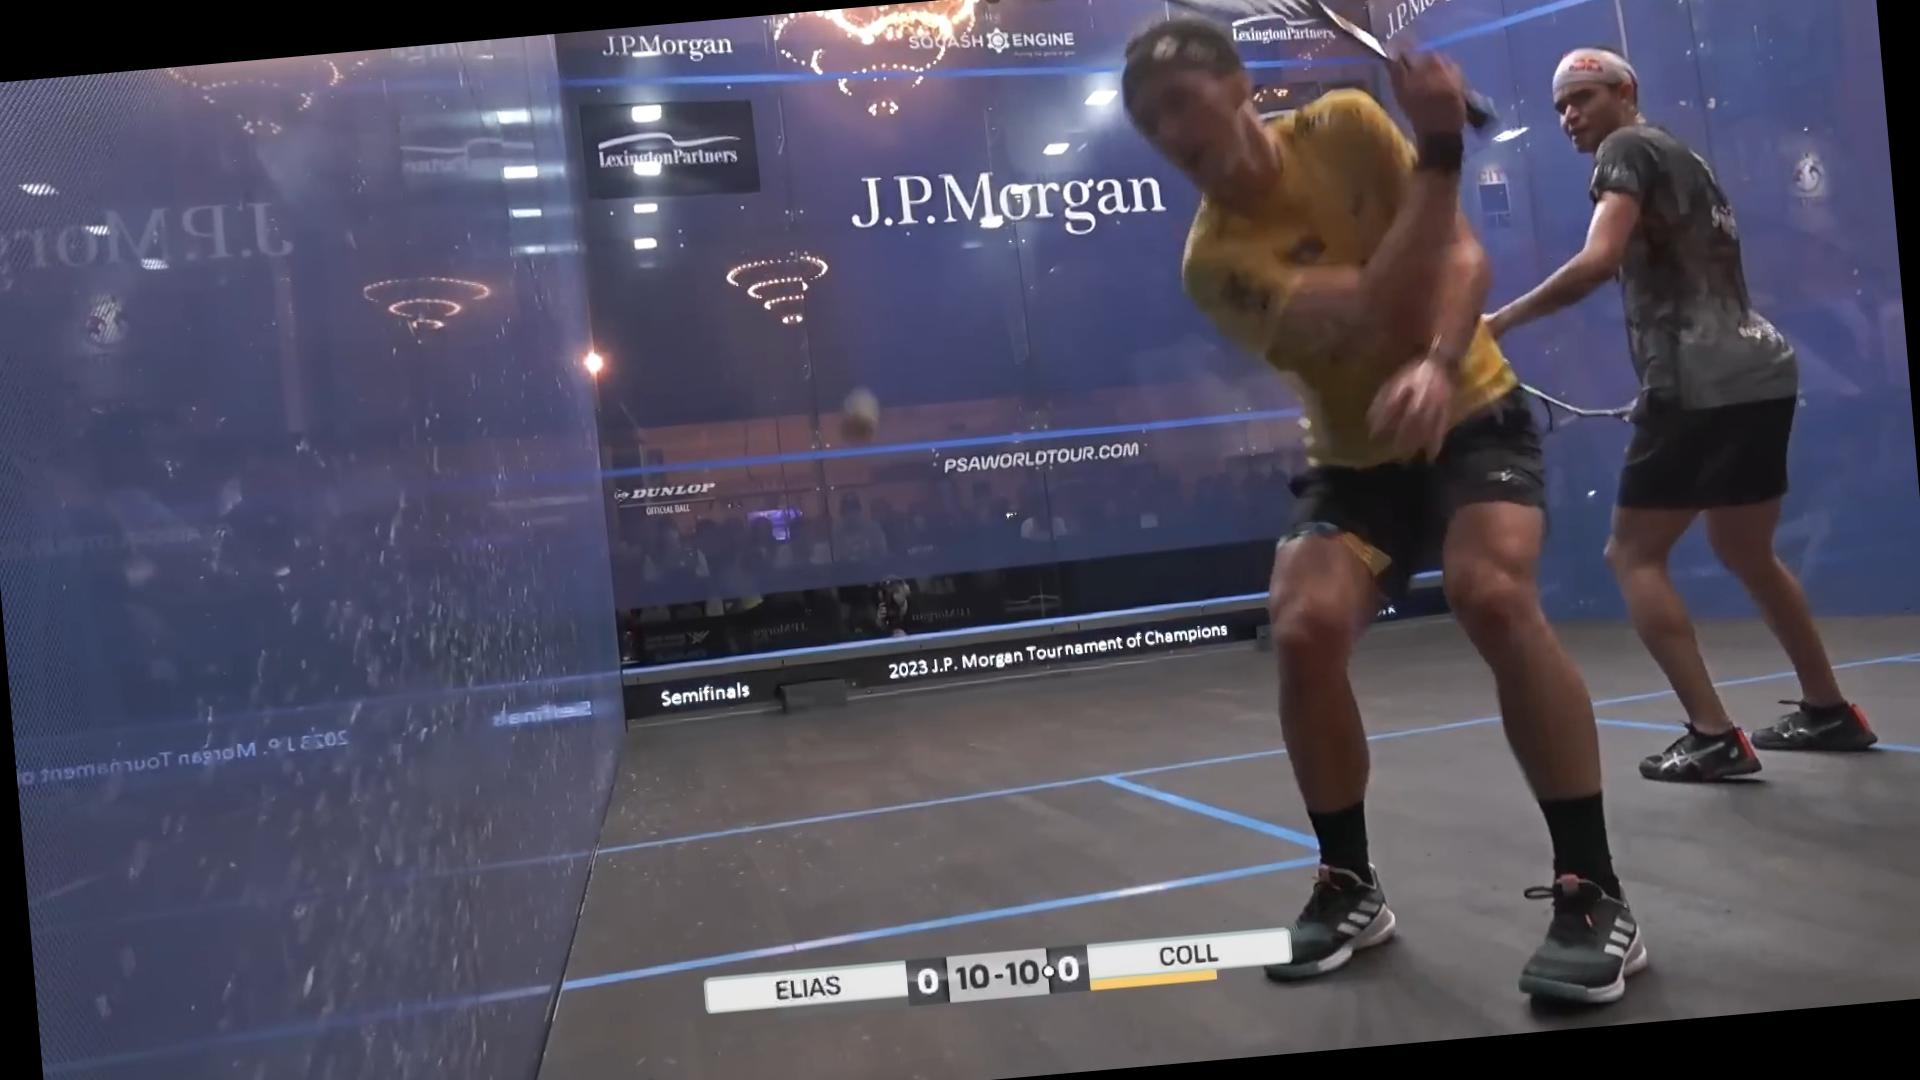Racket: (1139, 0, 1513, 156), (1481, 345, 1607, 439)
